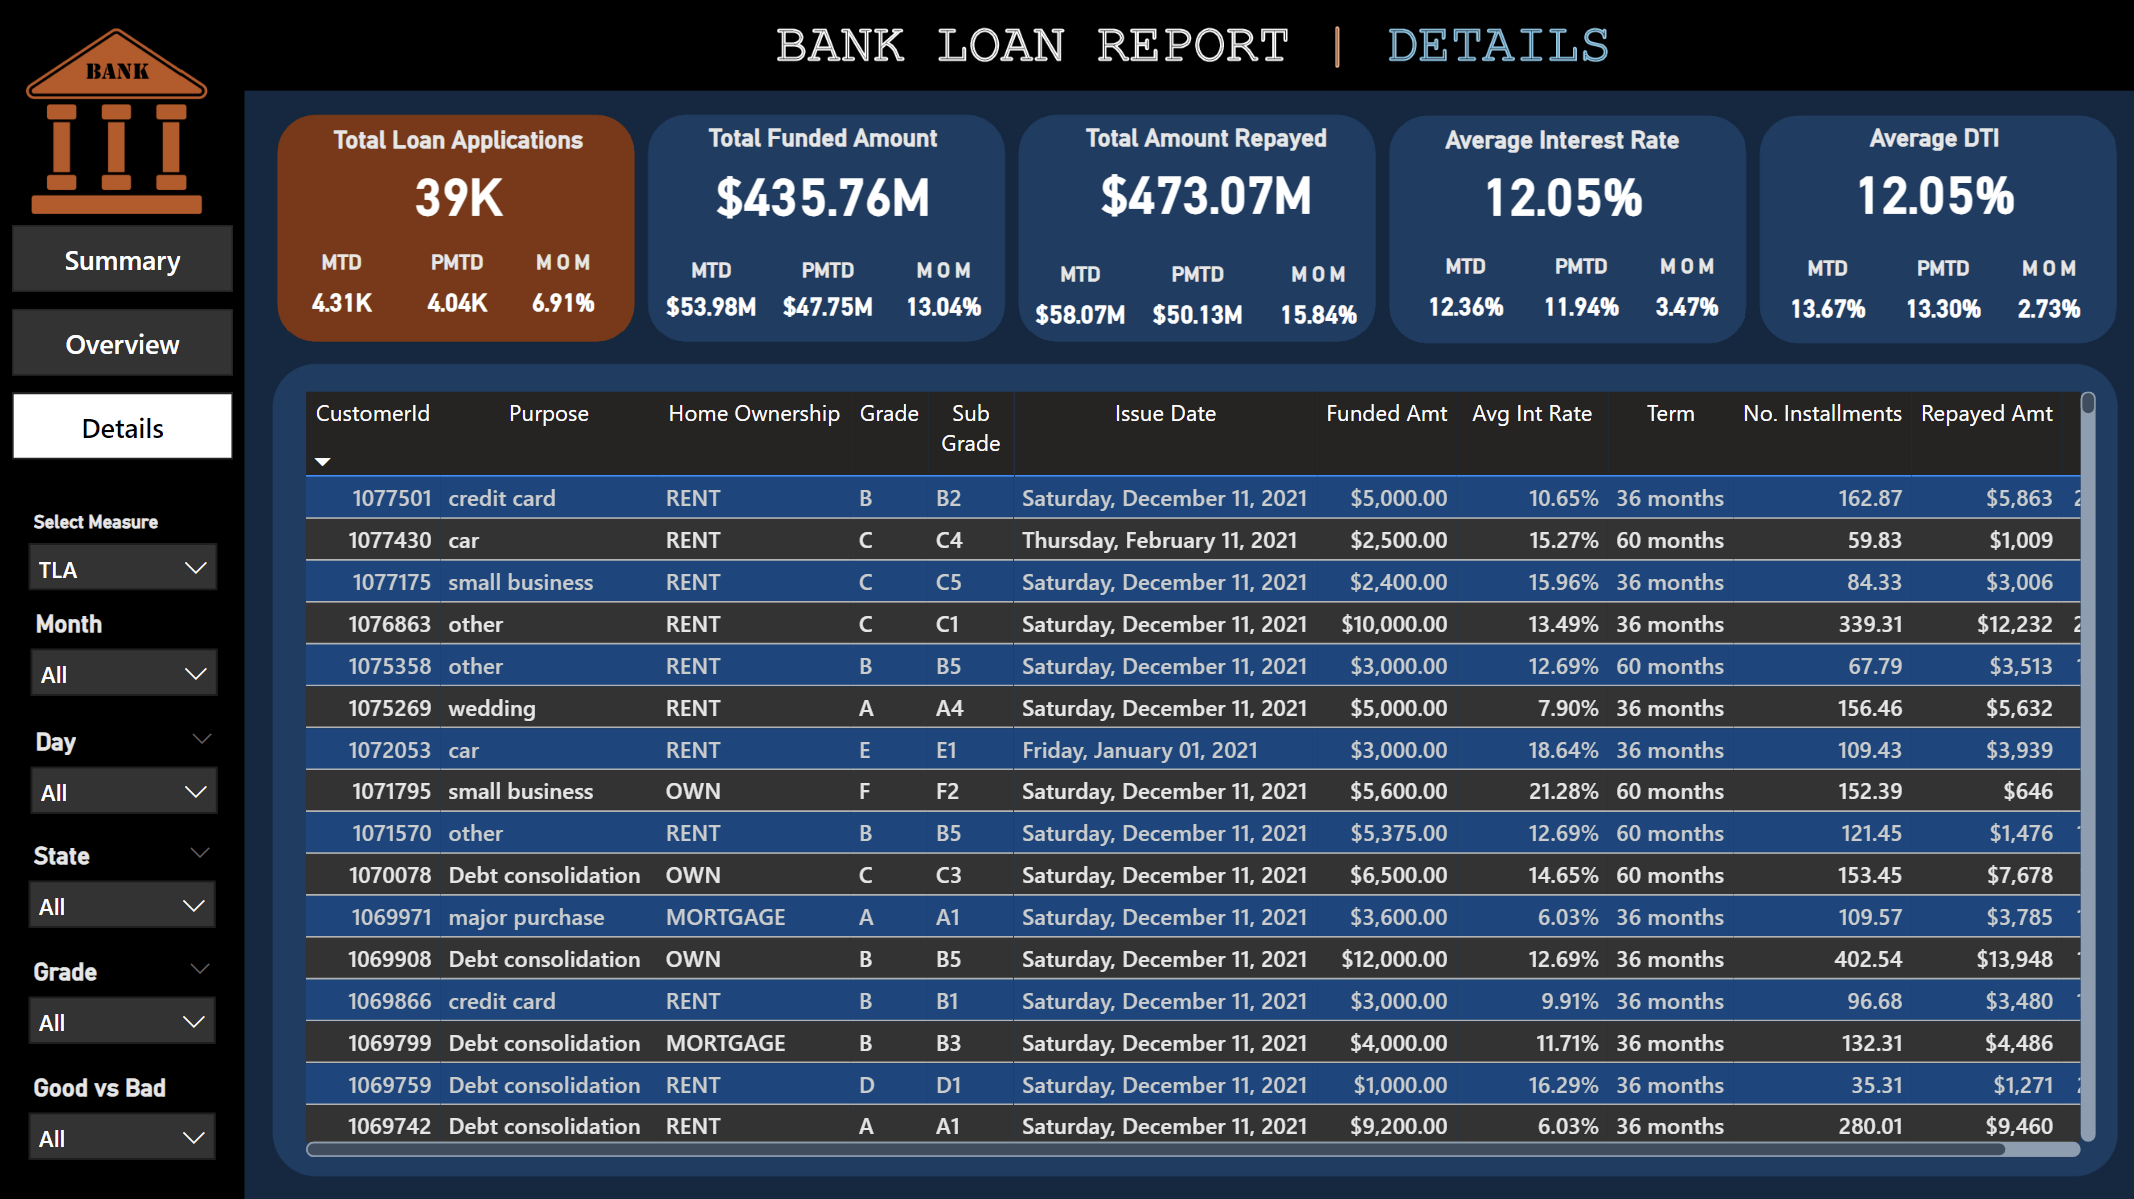

This screenshot's page, from the dashboard's own definition file:
{"tool":"tableau","page":{"name":"DETAILS","canvas":[1600,900],"ordinal":0},"visuals":[{"type":"image","param":"/Users/arafathjazeeb/Library/CloudStorage/OneDrive-UniversityofPisa/Data Analyst","box":[8,8,1584,884]},{"type":"worksheet","title":"TRA","mark":"Automatic","box":[770,100,238,81]},{"type":"worksheet","title":"AIR","mark":"Automatic","box":[1037,101,241,77]},{"type":"worksheet","title":"DTI","mark":"Automatic","box":[1307,101,241,72]},{"type":"worksheet","title":"TFA","mark":"Automatic","box":[498,102,241,83]},{"type":"worksheet","title":"TLA","mark":"Automatic","box":[229,103,242,82]},{"type":"text","box":[1328,184,33,30]},{"type":"text","box":[1409,184,39,30]},{"type":"text","box":[1483,184,39,30]},{"type":"text","box":[252,185,33,30]},{"type":"text","box":[333,185,39,30]},{"type":"text","box":[410,185,39,30]},{"type":"text","box":[1065,185,33,30]},{"type":"text","box":[1141,185,39,30]},{"type":"text","box":[1215,185,39,30]},{"type":"text","box":[795,186,33,30]},{"type":"text","box":[869,186,39,30]},{"type":"text","box":[946,186,39,30]},{"type":"text","box":[524,188,33,30]},{"type":"text","box":[601,188,39,30]},{"type":"text","box":[675,188,39,30]},{"type":"worksheet","title":"MTD_AIR","mark":"Automatic","box":[1043,203,77,53]},{"type":"dashboard-object","box":[30,205,164,52]},{"type":"worksheet","title":"PMTD_TLA","mark":"Automatic","box":[310,207,86,43]},{"type":"worksheet","title":"MTD_TFA","mark":"Automatic","box":[501,207,75,46]},{"type":"worksheet","title":"MTD_TRA","mark":"Automatic","box":[768,208,84,43]},{"type":"worksheet","title":"PMTD_AIR","mark":"Automatic","box":[1121,208,84,44]},{"type":"worksheet","title":"PMTD_DTI","mark":"Automatic","box":[1390,208,82,39]},{"type":"worksheet","title":"MOM_TFA","mark":"Automatic","box":[654,209,87,41]},{"type":"worksheet","title":"MTD_DTI","mark":"Automatic","box":[1309,209,73,39]},{"type":"worksheet","title":"PMTD_TFA","mark":"Automatic","box":[581,210,81,39]},{"type":"worksheet","title":"MOM_DTI","mark":"Automatic","box":[1472,210,70,34]},{"type":"worksheet","title":"MTD_TLA","mark":"Automatic","box":[229,211,71,33]},{"type":"worksheet","title":"PMTD_TRA","mark":"Automatic","box":[853,211,76,38]},{"type":"worksheet","title":"MOM_TRA","mark":"Automatic","box":[926,211,79,38]},{"type":"worksheet","title":"MOM_AIR","mark":"Automatic","box":[1197,211,86,36]},{"type":"worksheet","title":"MOM_TLA","mark":"Automatic","box":[392,212,68,32]},{"type":"dashboard-object","box":[29,268,164,52]},{"type":"worksheet","title":"Details Tab","mark":"Automatic","rows":["id","purpose","home_ownership","grade","sub_grade","issue_date","term"],"box":[233,285,1323,567]},{"type":"dashboard-object","box":[29,329,164,52]},{"type":"parameter","param":"[Parameters].[Parameter 1]","box":[33,558,160,44]},{"type":"filter","title":"AIR","param":"[federated.19laxnm011tjax19or1he1sgg5cj].[none:verification_status:nk]","box":[34,617,160,58]},{"type":"filter","title":"AIR","param":"[federated.19laxnm011tjax19or1he1sgg5cj].[none:address_state:nk]","box":[34,675,160,54]},{"type":"filter","title":"AIR","param":"[federated.19laxnm011tjax19or1he1sgg5cj].[none:grade:nk]","box":[33,736,160,49]},{"type":"filter","title":"AIR","param":"[federated.19laxnm011tjax19or1he1sgg5cj].[none:purpose:nk]","box":[32,795,160,60]}]}

Visuals, with their boxes in screenshot pixels (x1, y1, x2, y2), scaled from the page's 1600x900 canvas onto the 2134x1199 screenshot:
image: crop(11, 11, 2123, 1188)
"TRA" worksheet: crop(1027, 133, 1344, 241)
"AIR" worksheet: crop(1383, 135, 1705, 237)
"DTI" worksheet: crop(1743, 135, 2065, 230)
"TFA" worksheet: crop(664, 136, 986, 246)
"TLA" worksheet: crop(305, 137, 628, 246)
text: crop(1771, 245, 1815, 285)
text: crop(1879, 245, 1931, 285)
text: crop(1978, 245, 2030, 285)
text: crop(336, 246, 380, 286)
text: crop(444, 246, 496, 286)
text: crop(547, 246, 599, 286)
text: crop(1420, 246, 1464, 286)
text: crop(1522, 246, 1574, 286)
text: crop(1621, 246, 1673, 286)
text: crop(1060, 248, 1104, 288)
text: crop(1159, 248, 1211, 288)
text: crop(1262, 248, 1314, 288)
text: crop(699, 250, 743, 290)
text: crop(802, 250, 854, 290)
text: crop(900, 250, 952, 290)
"MTD_AIR" worksheet: crop(1391, 270, 1494, 341)
dashboard-object: crop(40, 273, 259, 342)
"PMTD_TLA" worksheet: crop(413, 276, 528, 333)
"MTD_TFA" worksheet: crop(668, 276, 768, 337)
"MTD_TRA" worksheet: crop(1024, 277, 1136, 334)
"PMTD_AIR" worksheet: crop(1495, 277, 1607, 336)
"PMTD_DTI" worksheet: crop(1854, 277, 1963, 329)
"MOM_TFA" worksheet: crop(872, 278, 988, 333)
"MTD_DTI" worksheet: crop(1746, 278, 1843, 330)
"PMTD_TFA" worksheet: crop(775, 280, 883, 332)
"MOM_DTI" worksheet: crop(1963, 280, 2057, 325)
"MTD_TLA" worksheet: crop(305, 281, 400, 325)
"PMTD_TRA" worksheet: crop(1138, 281, 1239, 332)
"MOM_TRA" worksheet: crop(1235, 281, 1340, 332)
"MOM_AIR" worksheet: crop(1596, 281, 1711, 329)
"MOM_TLA" worksheet: crop(523, 282, 614, 325)
dashboard-object: crop(39, 357, 257, 426)
"Details Tab" worksheet: crop(311, 380, 2075, 1135)
dashboard-object: crop(39, 438, 257, 508)
parameter: crop(44, 743, 257, 802)
"AIR" filter: crop(45, 822, 259, 899)
"AIR" filter: crop(45, 899, 259, 971)
"AIR" filter: crop(44, 981, 257, 1046)
"AIR" filter: crop(43, 1059, 256, 1139)
